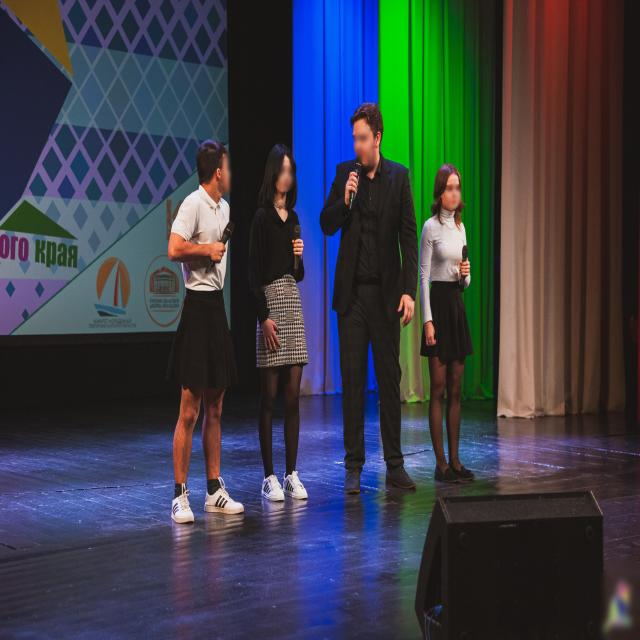Person: (162, 136, 248, 537), (335, 96, 417, 504), (251, 134, 322, 533), (416, 158, 478, 492)
